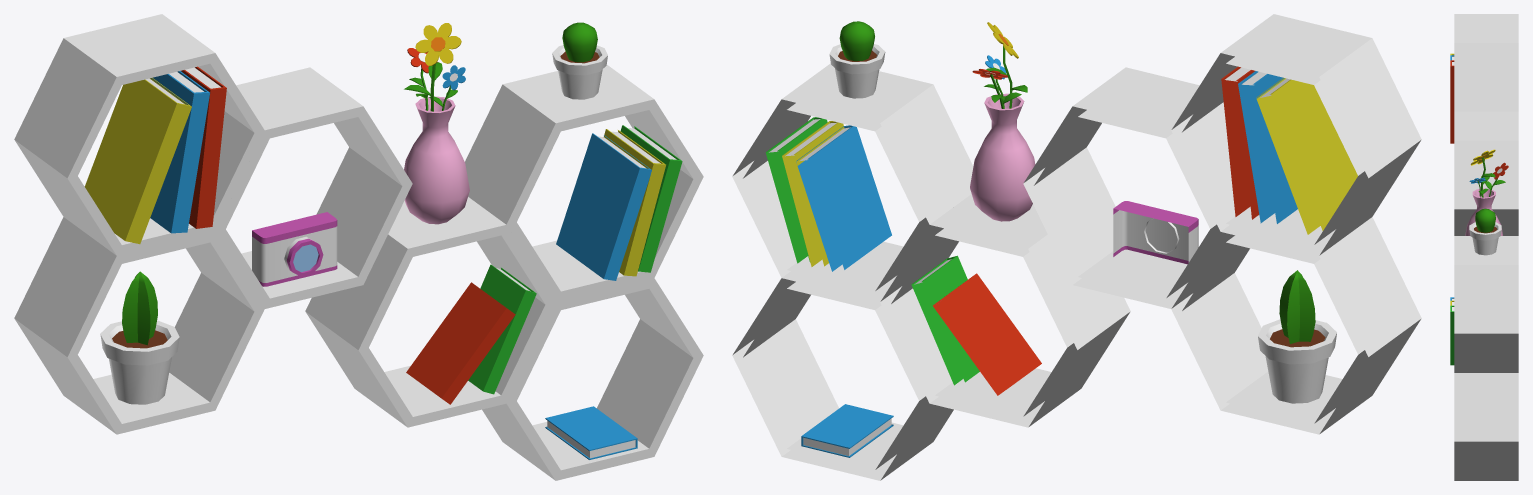
Rendered from gia sach.FBX.
3 views of the same model, side by side, from view 1: azimuth 30°, elevation 25°; view 2: azimuth 150°, elevation 25°; view 3: azimuth 270°, elevation 25° (orthographic). The views are drawn at different scales.
Parts seen in each view (by area): view 1: Tube007; view 2: Tube007; view 3: Tube007.
Part boxes in pixels (x1=…): Tube007: x1=14, y1=14, x2=703, y2=480; Tube007: x1=732, y1=14, x2=1421, y2=480; Tube007: x1=1450, y1=14, x2=1518, y2=480.
Bounding box in the file's own units: 5.24 × 4.02 × 0.8079.
